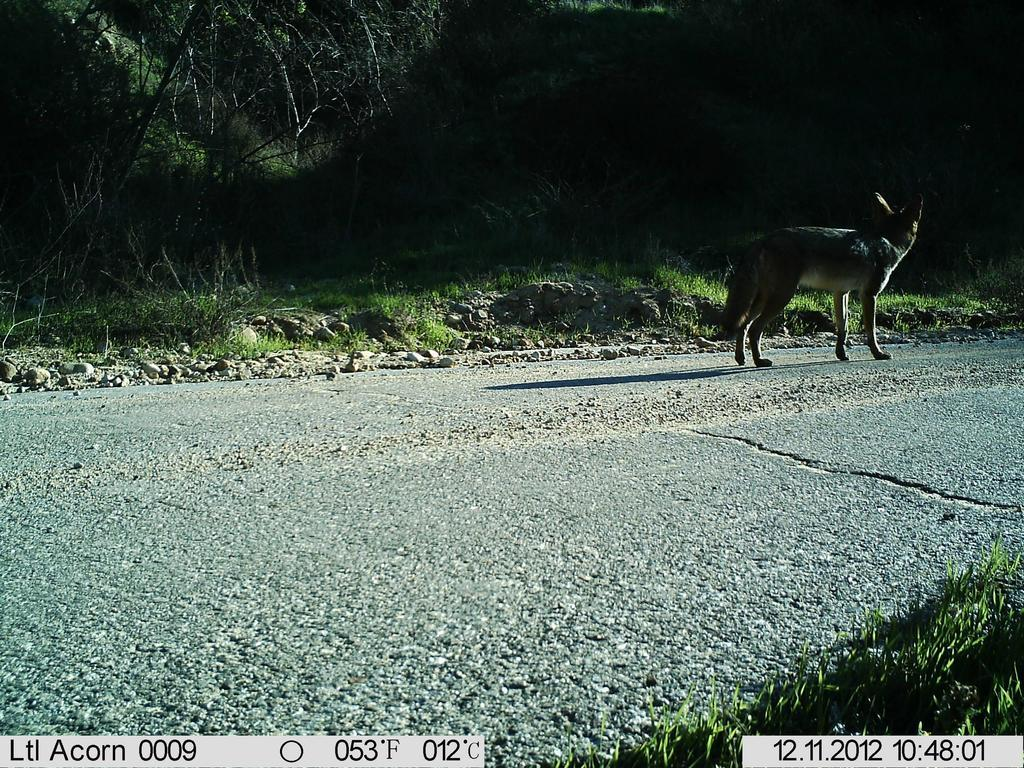coyote: (701, 187, 931, 370)
